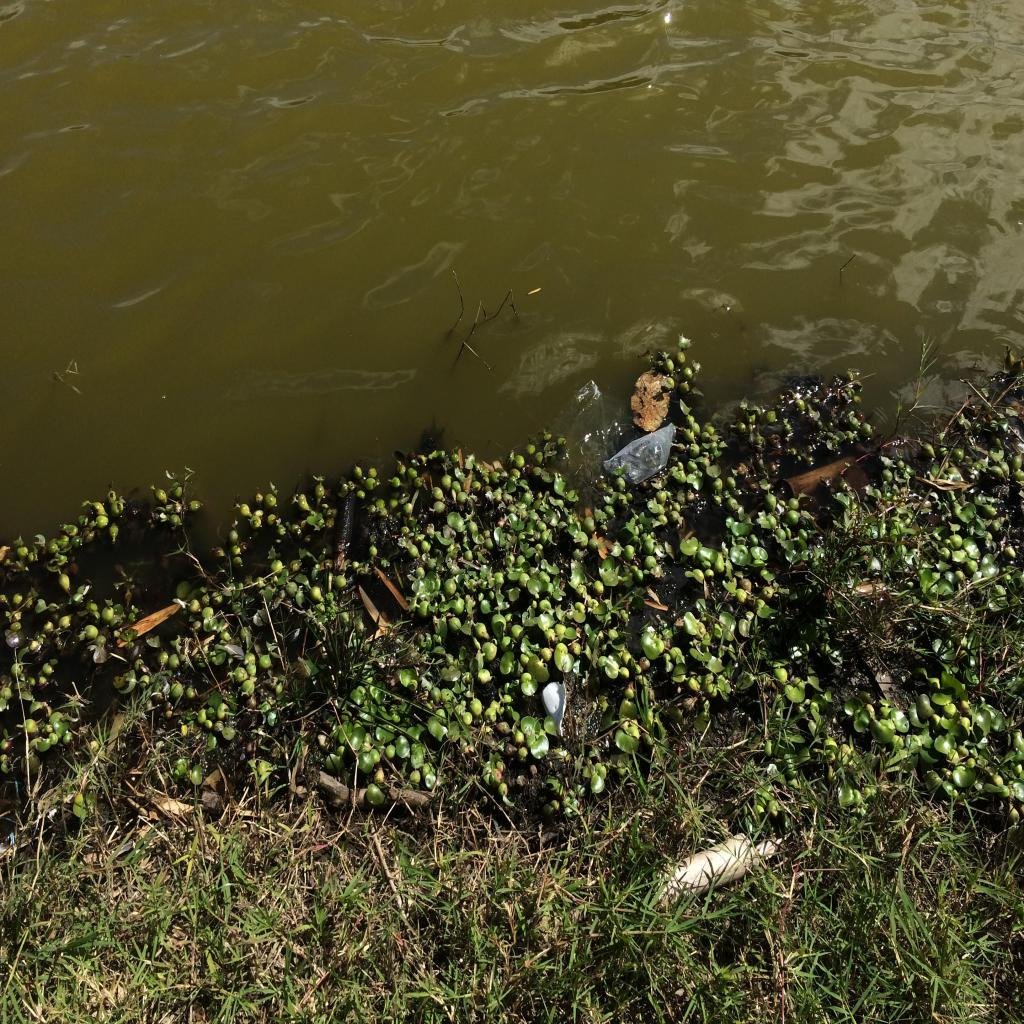Other plastic wrapper: (542, 680, 566, 738)
Plastic film: (576, 380, 676, 485)
